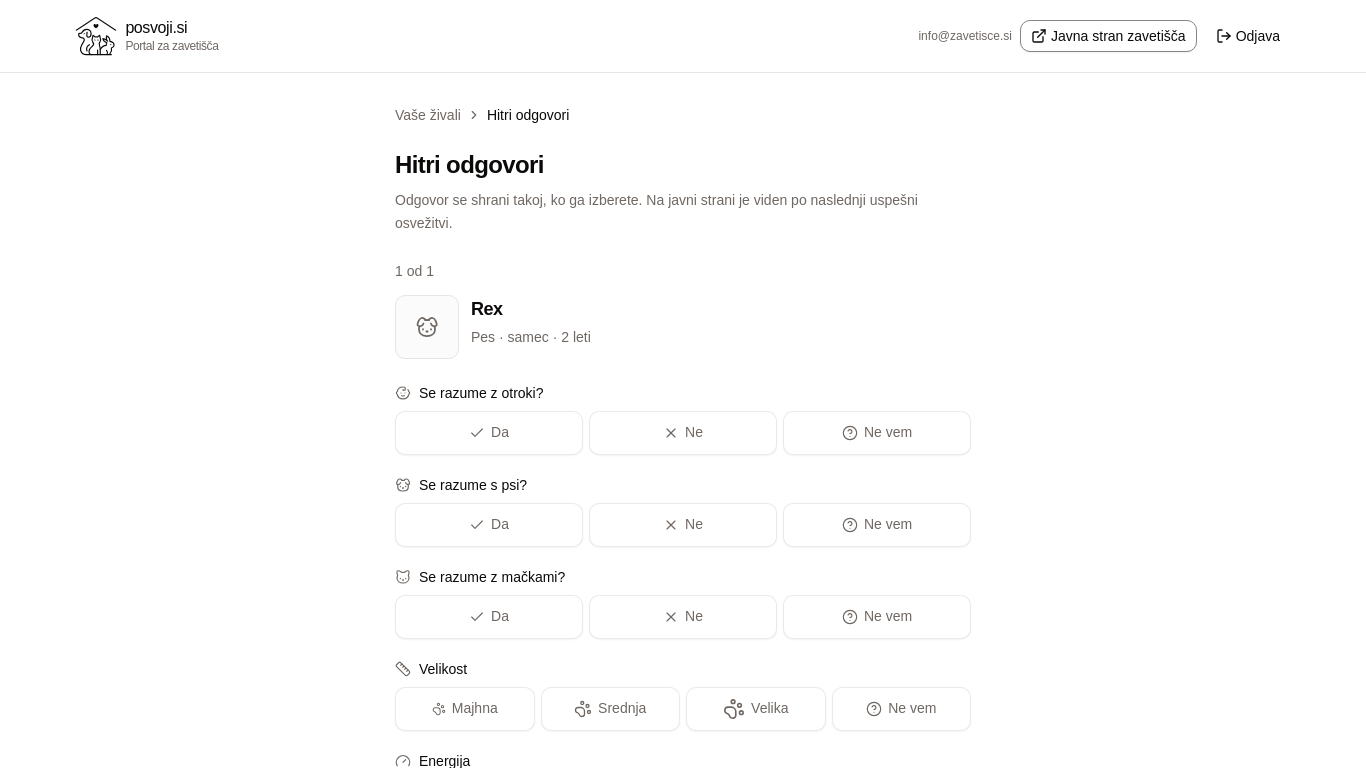
Test: a tap › saves that one answer at once and says so
The width and height of the screenshot is (1366, 768).
Expected: the heading "Rex" is shown, 471,298 -> 503,318
Click the radio button labelled "Da" below "Se razume z otroki?" at (489, 432), box 395,410 -> 583,454
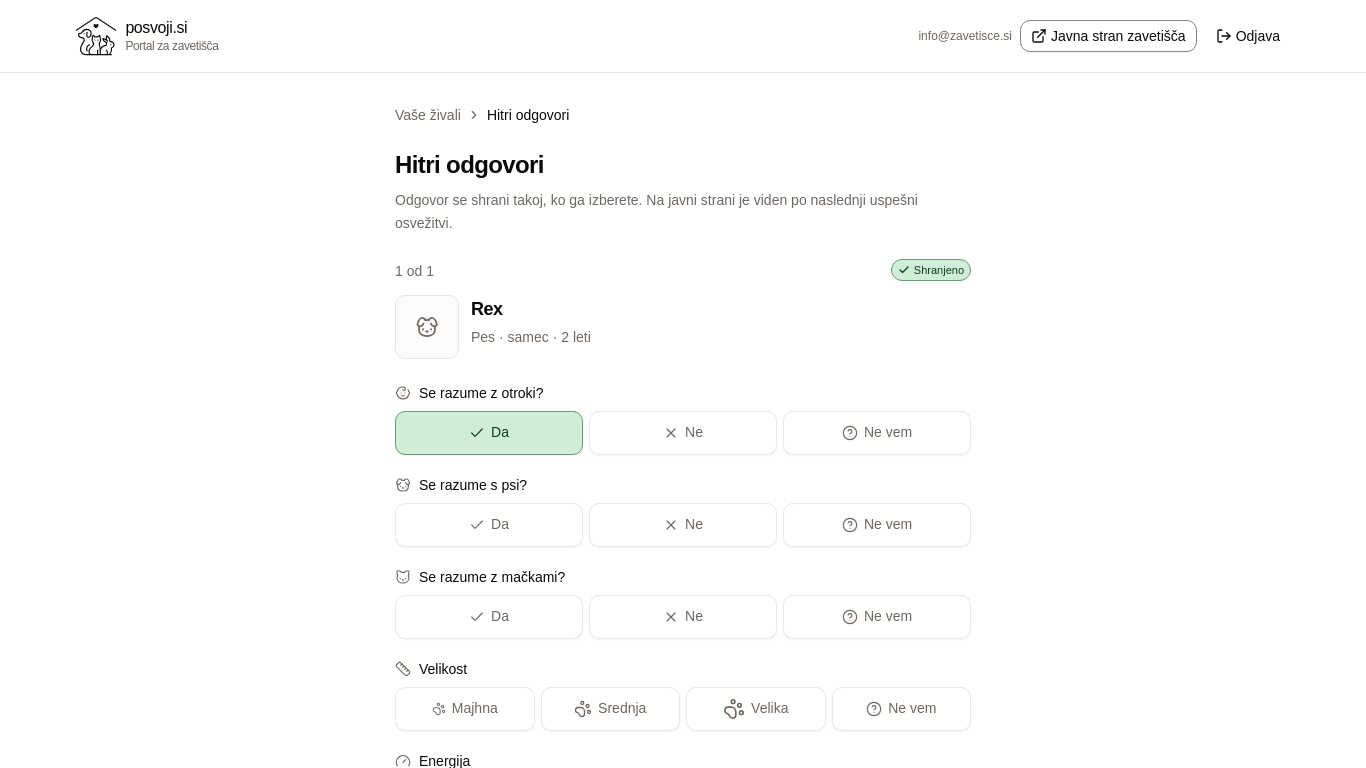
Expected: the text "Shranjeno" is shown, 891,258 -> 971,281
